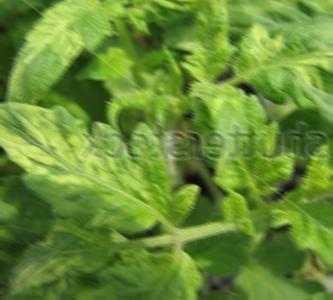Tomato leaf mosaic virus: (0, 101, 181, 233), (0, 0, 125, 114), (190, 83, 296, 208), (237, 6, 333, 114), (72, 252, 209, 300), (180, 0, 237, 96), (276, 194, 333, 272)
